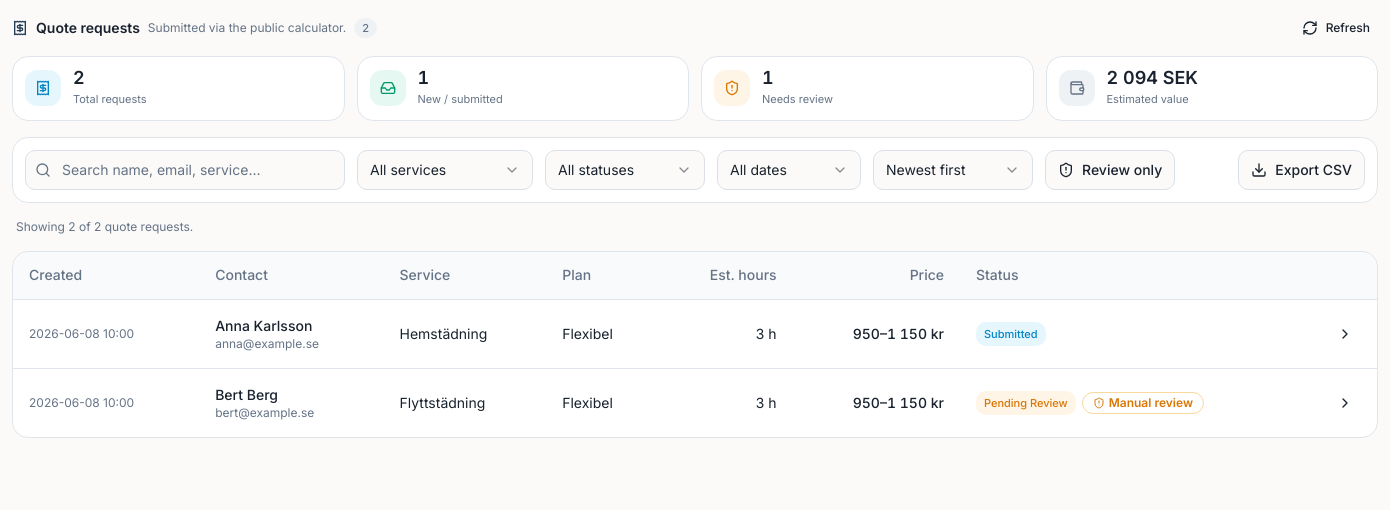
Test: QuoteRequestsInbox toolbar (Slice 12C, Part A) › shows a filter-empty state and clears filters
This screenshot has width=1390, height=510.
Type "zzzz-nomatch" into the field named "Search quote requests".
click(185, 170); type("zzzz-nomatch")  # box [25, 150, 345, 190]
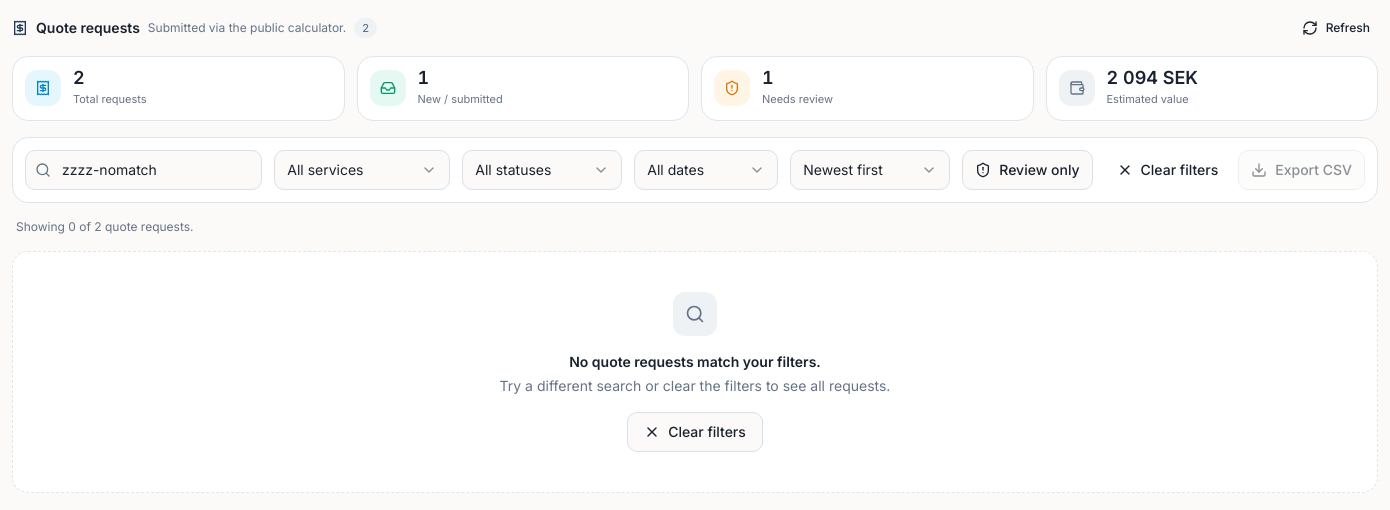
Result: the text "No quote requests match your filters." is shown at [569, 352, 821, 370]
Note: Clear via the empty-state button restores all rows.
Click the button "Clear filters" below "No quote requests match your filters.".
click(695, 432)  # box [627, 412, 763, 452]
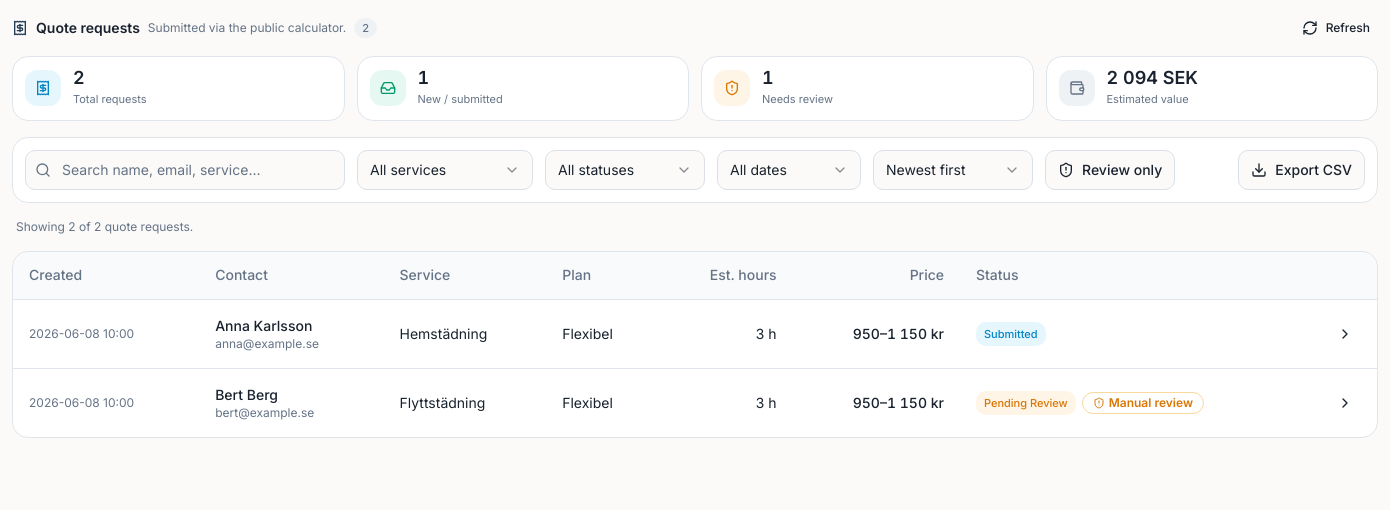
Result: the text "Anna Karlsson" is shown at [215, 317, 312, 334]
Result: the text "Bert Berg" is shown at [215, 386, 278, 403]
